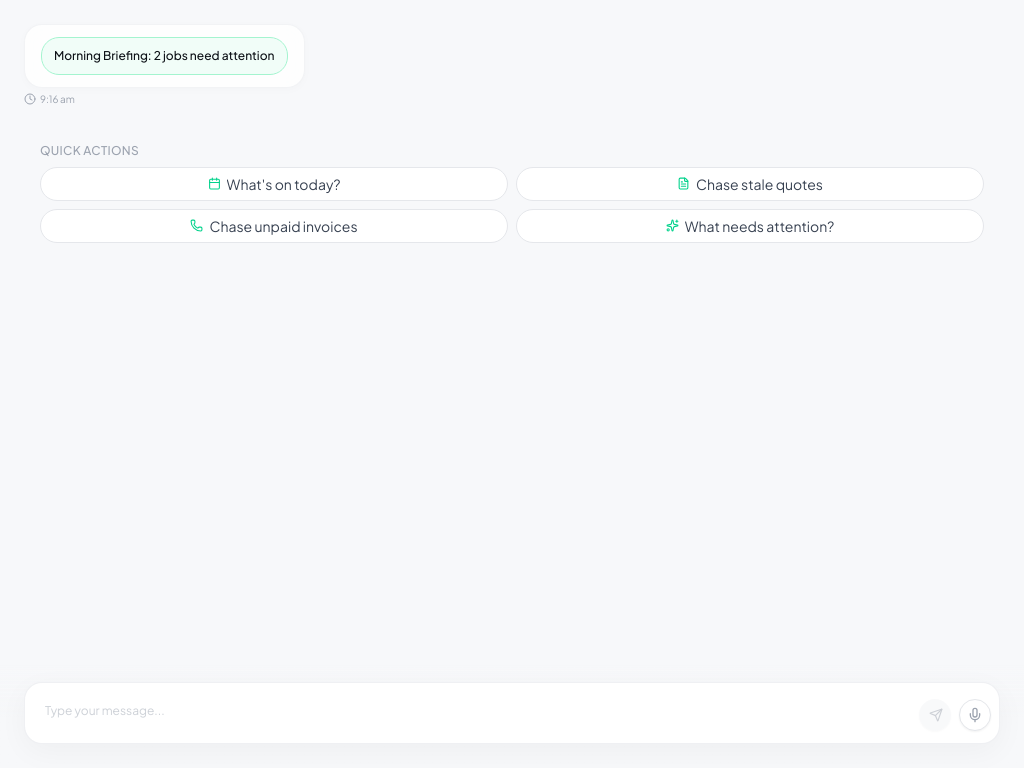
Scenario: ChatInterface › opens the morning briefing modal with clean user-facing separators
The image size is (1024, 768).
Step 1. Click the button "Morning Briefing: 2 jobs need attention" → x=164, y=56, box 41,37 -> 288,74
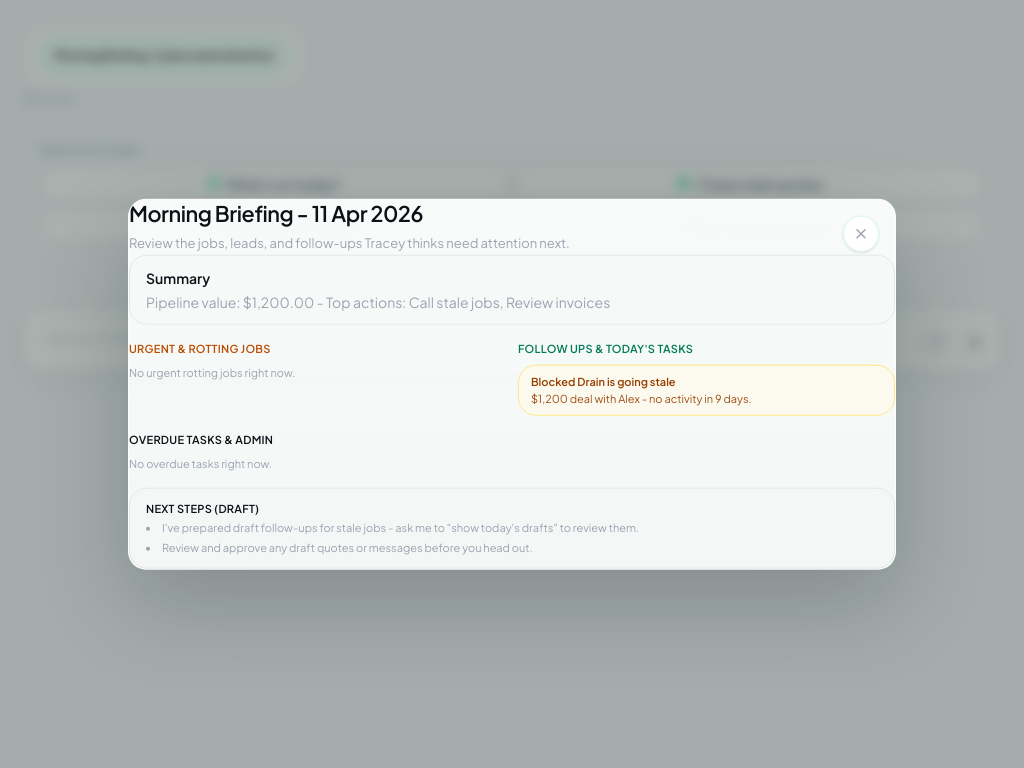
Expected: the heading "Morning Briefing - 11 Apr 2026" is shown, 129,200 -> 423,227
Expected: the text "Summary" holds "Pipeline value:\\s*\\$1,200(?:\\.00)?\\s*-\\s*Top actions:\\s*Call stale jobs,\\s*Review invoices", 129,255 -> 895,325
Expected: the list item "draft follow-ups for stale jobs - ask me" is shown, 162,521 -> 639,534
